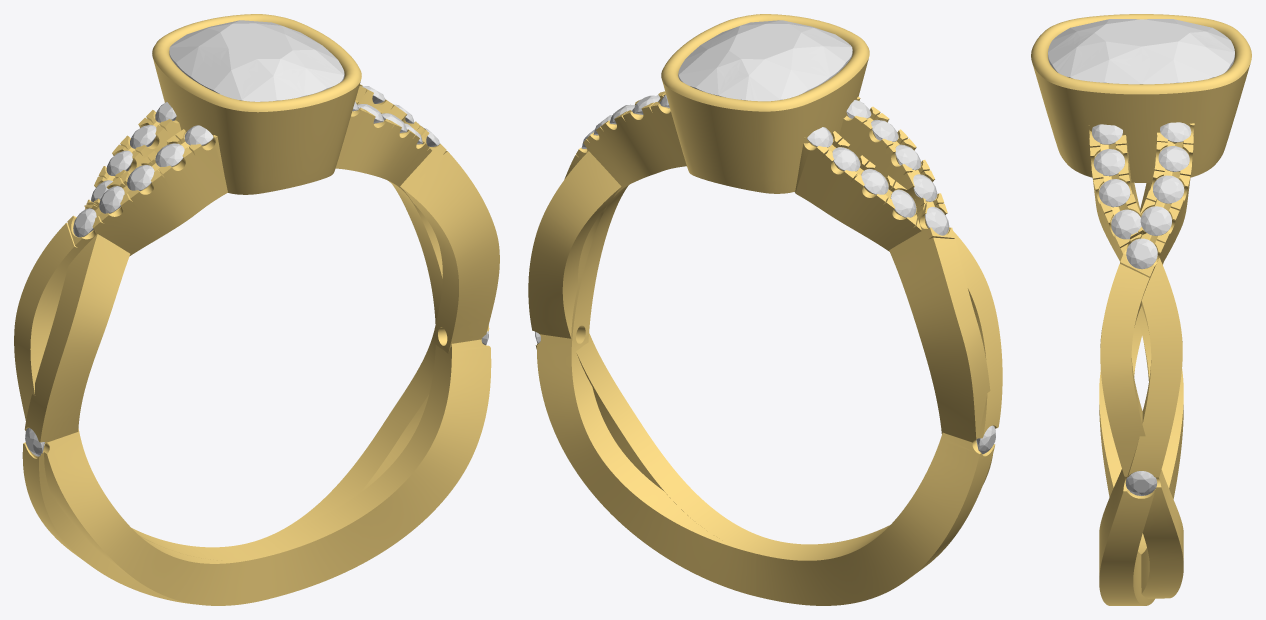
Rendered from diamond-cushion-yellowgold-bezelset-twist-sidestones.glb.
The picture shows the model from 3 angles, left to right: view 1: azimuth 30°, elevation 25°; view 2: azimuth 150°, elevation 25°; view 3: azimuth 270°, elevation 25°; orthographic projection.
Parts seen in each view (by area): view 1: metal, stone; view 2: metal, stone; view 3: metal, stone, side.015, side.016, side.012, side.017, side.011, side.013, side.018, side.010, side.014, side.019.
Part boxes in pixels (x1,y1,x2,y2): metal: [14, 14, 499, 605]; stone: [169, 20, 344, 101]; metal: [528, 14, 1002, 605]; stone: [678, 20, 852, 101]; metal: [1031, 14, 1251, 605]; stone: [1048, 19, 1234, 84]; side.015: [1126, 238, 1157, 269]; side.016: [1140, 206, 1171, 235]; side.012: [1099, 179, 1130, 207]; side.017: [1153, 175, 1184, 203]; side.011: [1111, 209, 1141, 239]; side.013: [1093, 149, 1124, 176]; side.018: [1158, 146, 1189, 171]; side.010: [1125, 471, 1157, 495]; side.014: [1092, 124, 1122, 144]; side.019: [1160, 122, 1191, 142].
Bounding box in the file's own units: 19.97 × 23.03 × 8.45.
